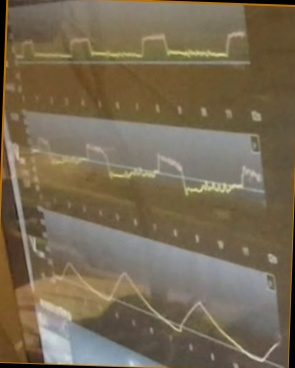Accumulation Flow: (32, 135, 263, 200)
Volume: (54, 260, 278, 362)
